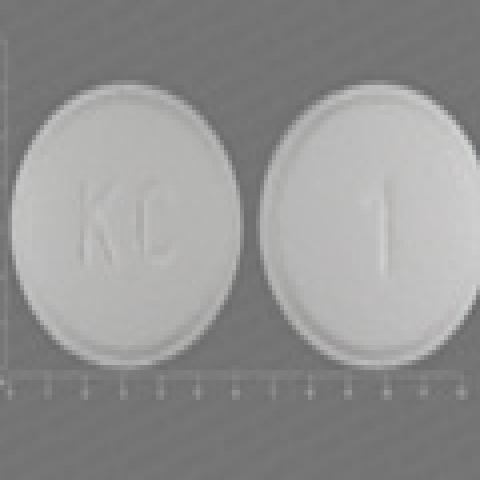Pill: (4, 59, 252, 387), (253, 57, 480, 389)
